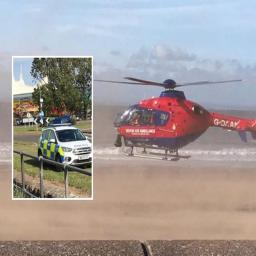helicopter: (80, 58, 229, 167)
